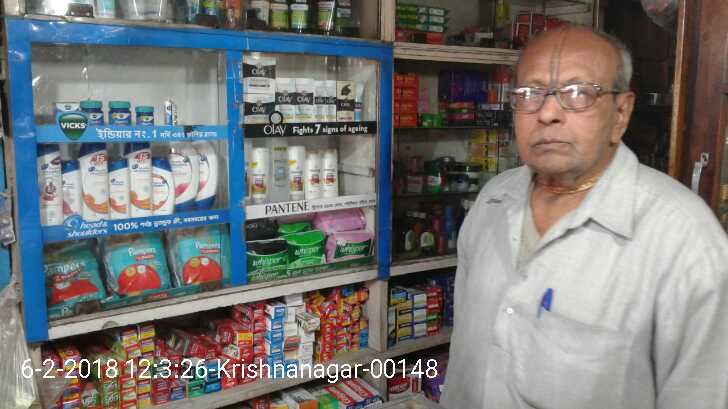vicks: (80, 99, 104, 128), (109, 100, 131, 128), (55, 100, 80, 121), (135, 105, 155, 128), (163, 97, 177, 126)
